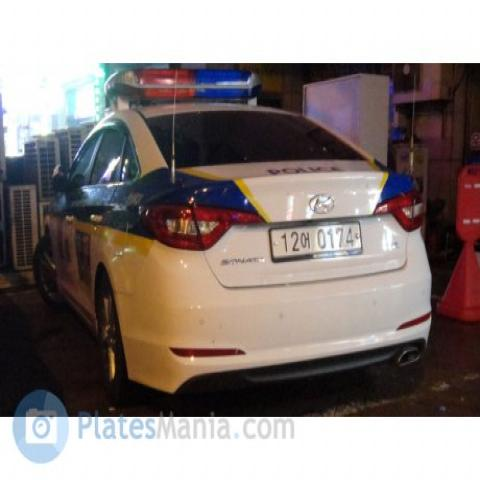LP: (268, 212, 366, 263)
